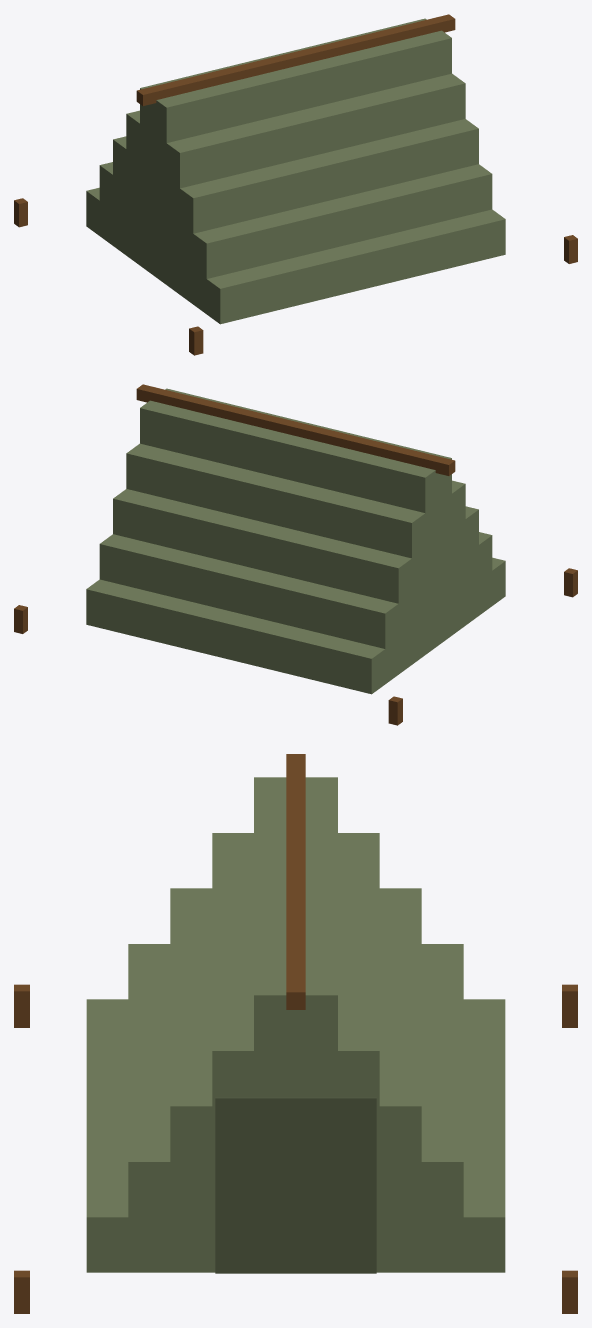
Rendered from tent.glb.
3 views of the same model, one above another, from view 1: azimuth 30°, elevation 25°; view 2: azimuth 150°, elevation 25°; view 3: azimuth 270°, elevation 25° (orthographic). The views are drawn at different scales.
Parts seen in each view (by area): view 1: Tent; view 2: Tent; view 3: Tent.
Part boxes in pixels (x1,y1,x2,y2): Tent: (14, 14, 577, 355); Tent: (14, 384, 577, 725); Tent: (14, 754, 577, 1313).
Size of the model in its own units: 4.3 by 2.01 by 3.5.
